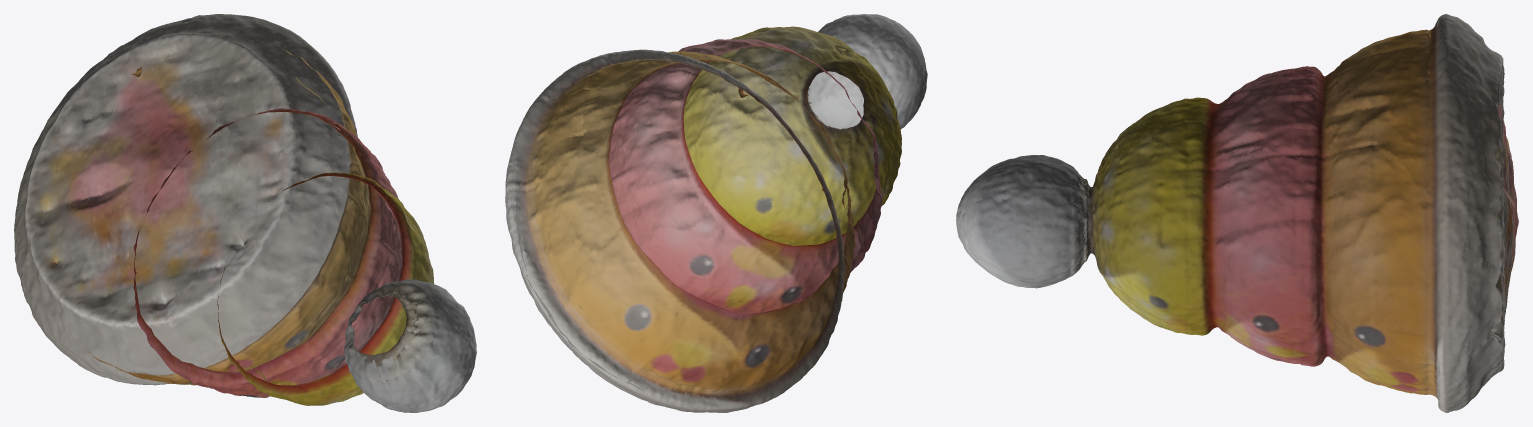
File: chicken.glb
3 views of the same model, side by side, from view 1: azimuth 30°, elevation 25°; view 2: azimuth 150°, elevation 25°; view 3: azimuth 270°, elevation 25° (orthographic). The views are drawn at different scales.
Size of the model in its own units: 0.708 by 0.7104 by 1.
